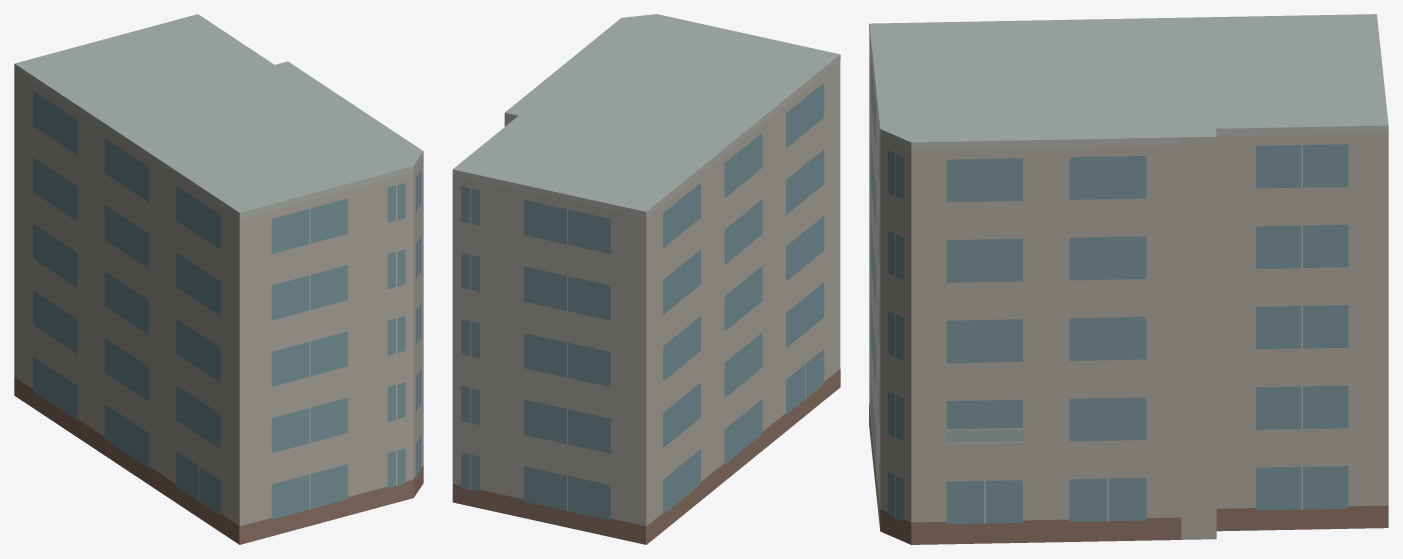
File: survey-upis-32611883.glb
3 renders of one model, left to right at view 1: azimuth 30°, elevation 25°; view 2: azimuth 150°, elevation 25°; view 3: azimuth 270°, elevation 25°, orthographic. The views are drawn at different scales.
Visible parts, largest first — view 1: survey-upis-32611883.tmp; view 2: survey-upis-32611883.tmp; view 3: survey-upis-32611883.tmp.
Part boxes in pixels (x1,y1,x2,y2): survey-upis-32611883.tmp: (14,14,423,544); survey-upis-32611883.tmp: (452,14,840,544); survey-upis-32611883.tmp: (869,14,1388,544).
Bounding box in the file's own units: 9.04 × 13.2 × 15.45.
